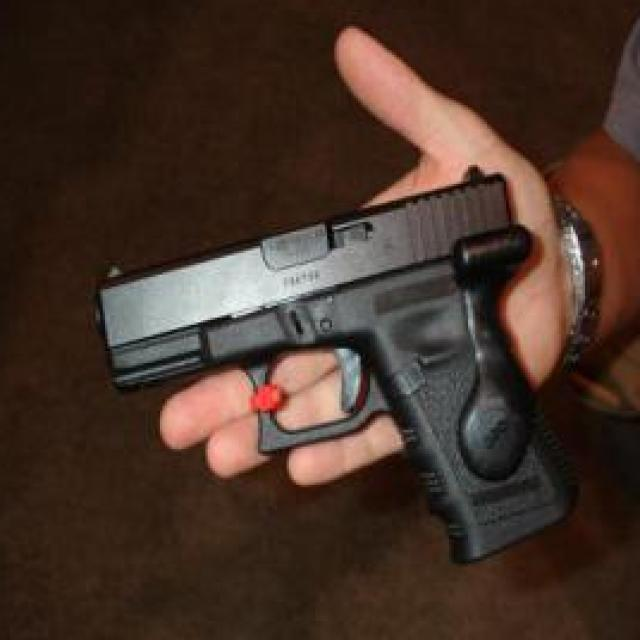pistol: (90, 170, 580, 564)
